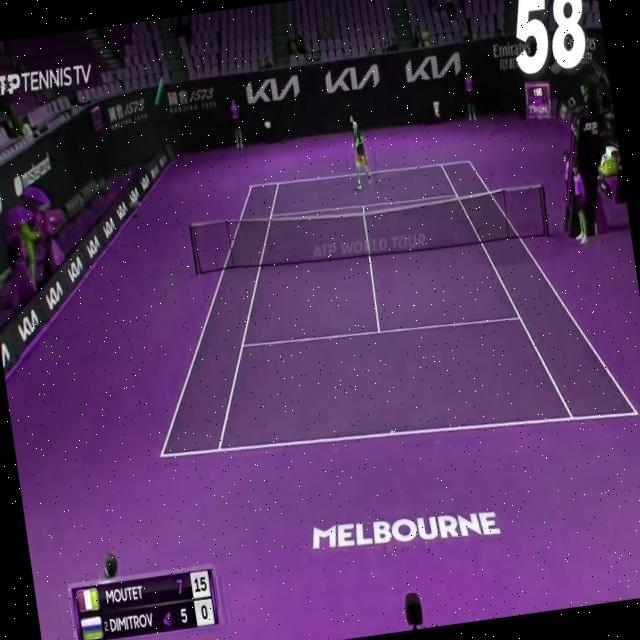court: (123, 136, 640, 483)
net: (188, 172, 552, 286)
